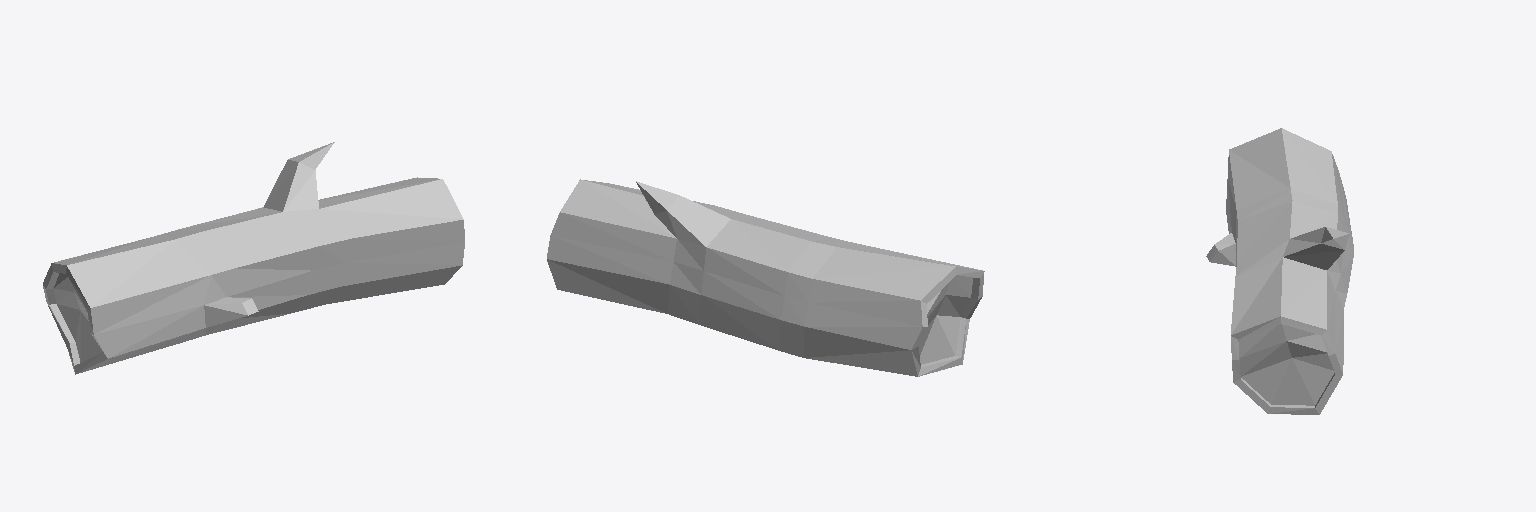
File: log.obj
3 views of the same model, side by side, from view 1: azimuth 30°, elevation 25°; view 2: azimuth 150°, elevation 25°; view 3: azimuth 270°, elevation 25° (orthographic).
Size of the model in its own units: 8.28 by 2.85 by 2.77.